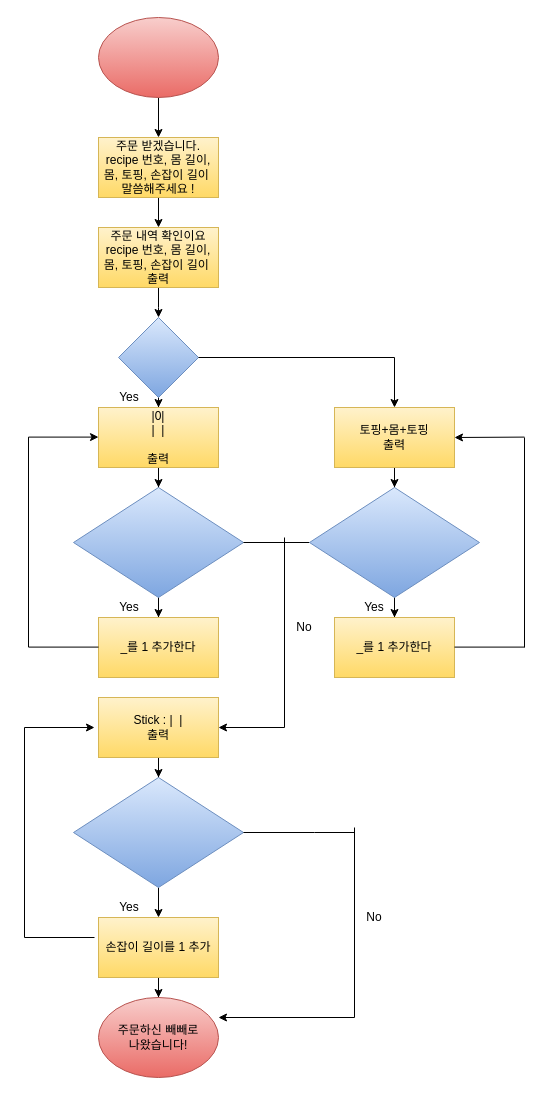
Image size: 550x1095. Some labels were removed from this diagram. The box of each missing label's shape, as (x1, y1, x2, y2) in pixels:
Stick 크기가 몸 길이 보다 작은가?: (72, 776, 244, 888)
|0| | | 크기가 몸 길이 절반보다 작은가?: (72, 486, 244, 598)
몸이 |0| 인가?: (118, 316, 198, 398)
빼빼로 주세요 !: (98, 16, 218, 98)
토핑+몸+토핑 크기가 몸 길이보다 작은가?: (308, 486, 480, 598)
